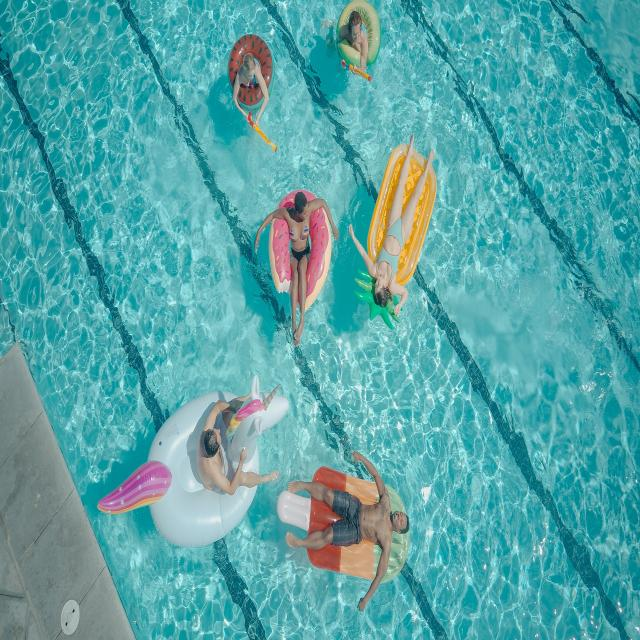Swimming: (351, 147, 434, 317), (287, 468, 412, 574), (194, 409, 276, 491), (280, 189, 322, 344), (232, 44, 272, 134), (336, 8, 375, 87)
